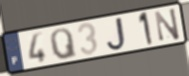1: (138, 10, 154, 48)
3: (76, 20, 100, 57)
4: (27, 31, 49, 65)
J: (106, 16, 128, 52)
N: (153, 6, 182, 43)
Q: (49, 27, 79, 61)
